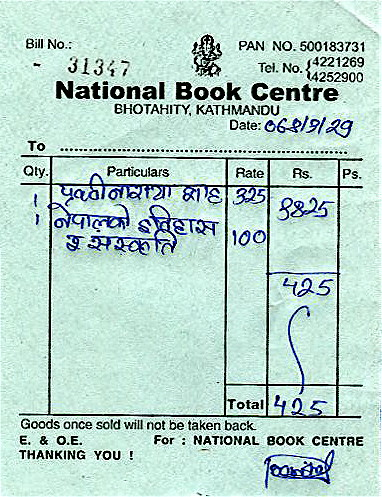text: (59, 173, 171, 204), (138, 205, 218, 237), (90, 229, 178, 257), (45, 203, 132, 231), (179, 181, 224, 206), (65, 232, 85, 254)
